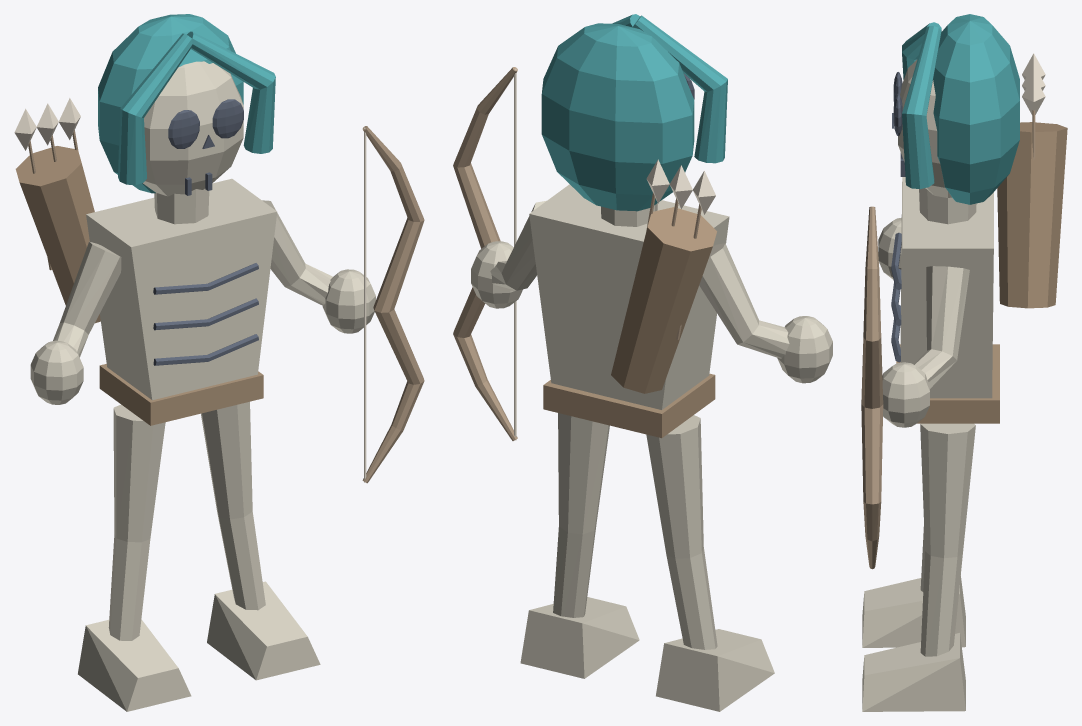
File: skeleton-archer.glb
3 views of the same model, side by side, from view 1: azimuth 30°, elevation 25°; view 2: azimuth 150°, elevation 25°; view 3: azimuth 270°, elevation 25° (orthographic). The views are drawn at different scales.
Visible parts, largest first — view 1: torso, leg_-1, head, leg_1, quiver, hood, foot_1, foot_-1, bow, belt, hood_edge_-1, arm_-1 (+11 smaller); view 2: hood, torso, quiver, leg_-1, leg_1, foot_-1, foot_1, bow, belt, arm_-1, hood_edge_-1, hand_-1 (+4 smaller); view 3: hood, torso, quiver, leg_1, foot_1, bow, foot_-1, arm_1, hood_edge_1, hand_1, belt, head (+5 smaller).
Boxes of the visible parts, x1=… form: torso: x1=86, y1=178, x2=277, y2=400; leg_-1: x1=108, y1=404, x2=165, y2=640; head: x1=143, y1=61, x2=243, y2=196; leg_1: x1=201, y1=401, x2=265, y2=610; quiver: x1=15, y1=146, x2=100, y2=323; hood: x1=98, y1=14, x2=243, y2=193; foot_1: x1=207, y1=581, x2=320, y2=680; foot_-1: x1=78, y1=619, x2=191, y2=711; bow: x1=362, y1=126, x2=424, y2=483; belt: x1=99, y1=364, x2=263, y2=425; hood_edge_-1: x1=118, y1=33, x2=192, y2=184; arm_-1: x1=53, y1=241, x2=121, y2=357; hood: x1=541, y1=23, x2=694, y2=211; torso: x1=529, y1=184, x2=729, y2=409; quiver: x1=611, y1=207, x2=716, y2=393; leg_-1: x1=646, y1=415, x2=717, y2=649; leg_1: x1=553, y1=413, x2=609, y2=617; foot_-1: x1=656, y1=629, x2=774, y2=711; foot_1: x1=520, y1=597, x2=639, y2=678; bow: x1=453, y1=67, x2=517, y2=440; belt: x1=543, y1=373, x2=715, y2=438; arm_-1: x1=699, y1=243, x2=789, y2=358; hood_edge_-1: x1=633, y1=15, x2=727, y2=163; hand_-1: x1=777, y1=316, x2=832, y2=383; hood: x1=933, y1=14, x2=1019, y2=204; torso: x1=900, y1=177, x2=993, y2=398; quiver: x1=997, y1=122, x2=1067, y2=308; leg_1: x1=920, y1=423, x2=975, y2=656; foot_1: x1=862, y1=633, x2=965, y2=711; bow: x1=861, y1=206, x2=883, y2=569; foot_-1: x1=862, y1=575, x2=965, y2=647; arm_1: x1=914, y1=266, x2=969, y2=388; hood_edge_1: x1=902, y1=26, x2=941, y2=188; hand_1: x1=882, y1=362, x2=929, y2=427; belt: x1=896, y1=344, x2=999, y2=423; head: x1=898, y1=59, x2=951, y2=197.
Size of the model in its own units: 1.11 by 1.8 by 0.5233.
